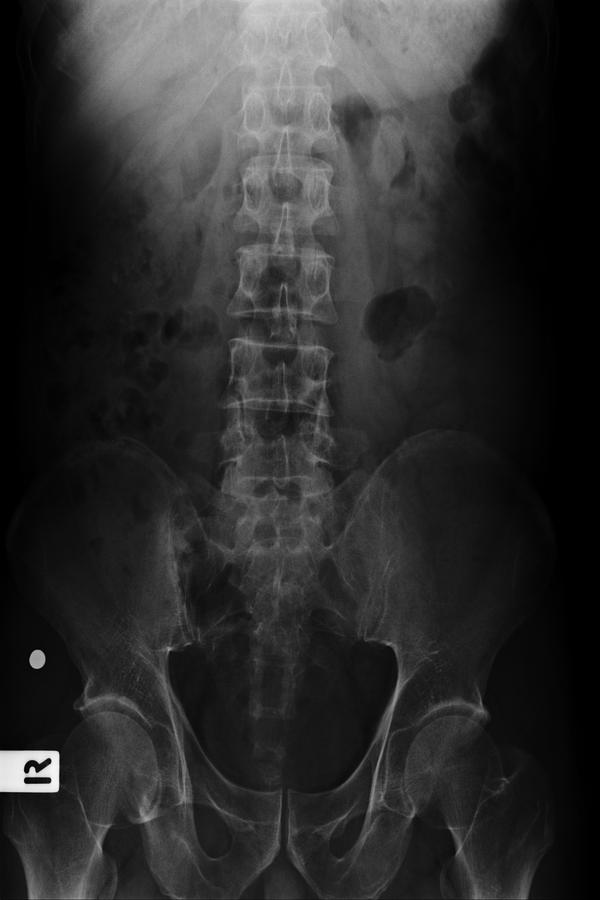not lumbar scoliosis: (211, 174, 350, 573)
